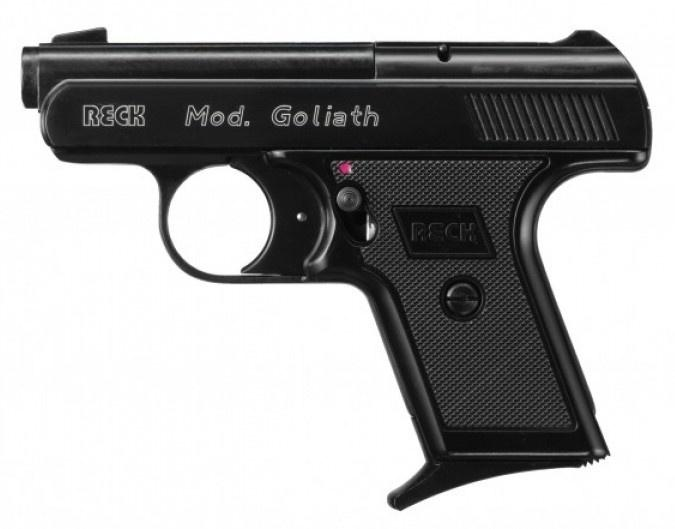gun: (8, 1, 644, 516)
